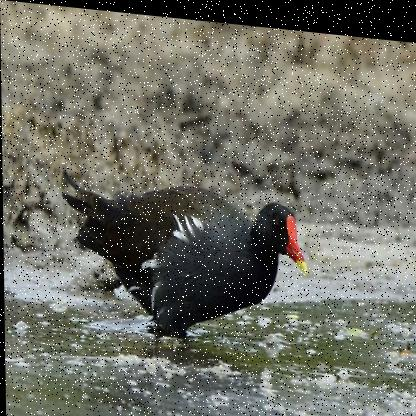Burung: (62, 167, 309, 347)
